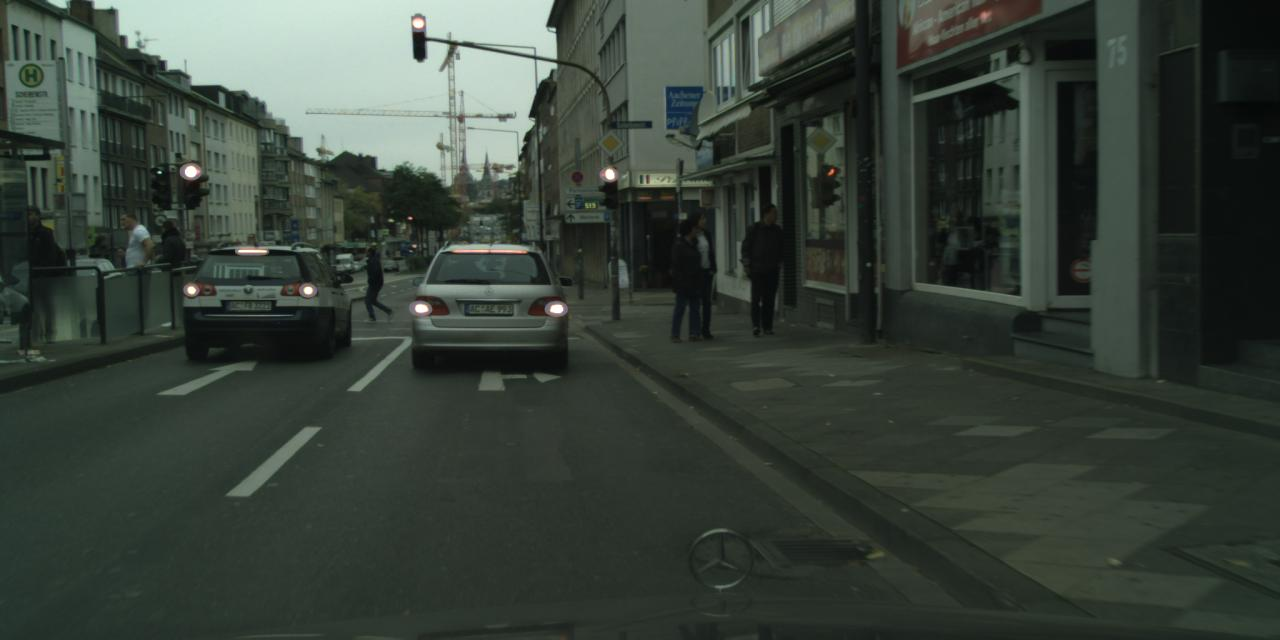ped: (8, 204, 64, 342), (738, 203, 792, 335), (672, 210, 724, 338), (662, 218, 712, 341), (106, 210, 155, 331), (148, 219, 190, 325), (361, 244, 392, 322), (112, 246, 142, 321)
